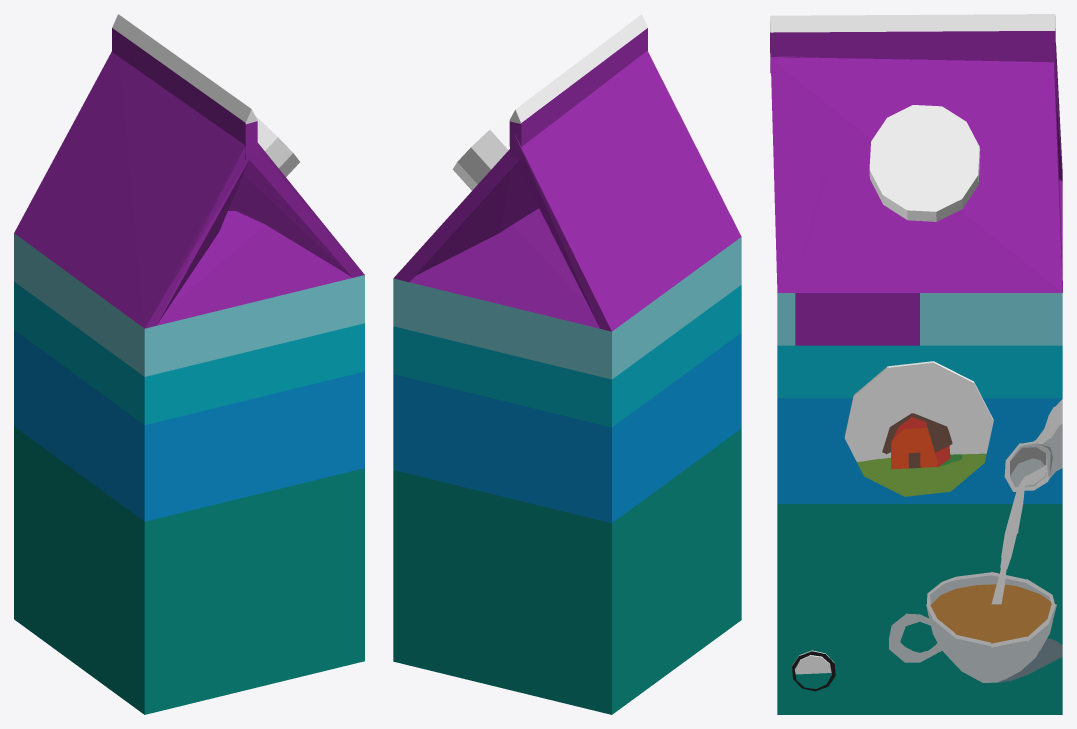
The model's file is juice1_.fbx.
3 views of the same model, side by side, from view 1: azimuth 30°, elevation 25°; view 2: azimuth 150°, elevation 25°; view 3: azimuth 270°, elevation 25° (orthographic). The views are drawn at different scales.
Parts seen in each view (by area): view 1: mesh_1808481179, mesh_269962988, mesh_1992804457, mesh_779451140, mesh_554837356, mesh_242375003, mesh_592564695; view 2: mesh_1808481179, mesh_269962988, mesh_1546677185, mesh_779451140, mesh_13841214, mesh_613364174, mesh_592564695, mesh_825518028; view 3: mesh_1808481179, mesh_613364174, group_883674466, mesh_779451140, mesh_592564695, group_623462620, group_1863623017.
Part boxes in pixels (x1,y1,x2,y2): mesh_1808481179: (14, 233, 364, 714); mesh_269962988: (14, 51, 247, 328); mesh_1992804457: (157, 211, 352, 325); mesh_779451140: (112, 14, 257, 159); mesh_554837356: (228, 150, 364, 277); mesh_242375003: (145, 159, 249, 328); mesh_592564695: (256, 116, 299, 176); mesh_1808481179: (393, 237, 741, 714); mesh_269962988: (515, 51, 741, 331); mesh_1546677185: (409, 208, 599, 328); mesh_779451140: (509, 14, 647, 159); mesh_13841214: (416, 165, 590, 275); mesh_613364174: (394, 149, 519, 282); mesh_592564695: (452, 103, 523, 190); mesh_825518028: (516, 151, 611, 331); mesh_1808481179: (777, 293, 1062, 714); mesh_613364174: (770, 57, 1062, 292); group_883674466: (844, 361, 993, 496); mesh_779451140: (770, 14, 1055, 73); mesh_592564695: (869, 105, 980, 221); group_623462620: (794, 655, 831, 688); group_1863623017: (792, 650, 835, 691).
Bounding box in the file's own units: 37.7 × 93.62 × 39.
